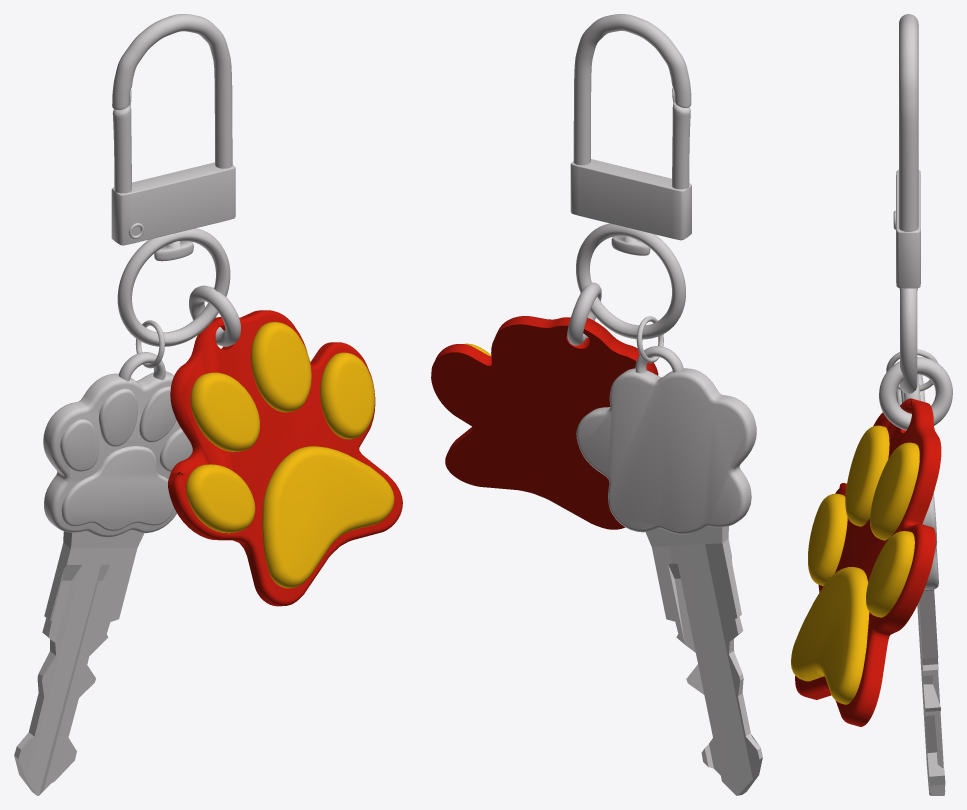
Rendered from enthusiast_key.glb.
3 renders of one model, left to right at view 1: azimuth 30°, elevation 25°; view 2: azimuth 150°, elevation 25°; view 3: azimuth 270°, elevation 25°, orthographic. The views are drawn at different scales.
Visible parts, largest first — view 1: enthusiast-keyring-pawprint, enthusiast-keys, enthusiast-keyring; view 2: enthusiast-keys, enthusiast-keyring-pawprint, enthusiast-keyring; view 3: enthusiast-keyring-pawprint, enthusiast-keyring, enthusiast-keys.
Part boxes in pixels (box(x1,y1,x2,y2)): enthusiast-keyring-pawprint: box(168, 285, 402, 606); enthusiast-keys: box(14, 320, 192, 795); enthusiast-keyring: box(111, 14, 235, 346); enthusiast-keys: box(576, 316, 762, 795); enthusiast-keyring-pawprint: box(431, 282, 658, 529); enthusiast-keyring: box(570, 14, 691, 339); enthusiast-keyring-pawprint: box(791, 357, 952, 726); enthusiast-keyring: box(893, 14, 920, 394); enthusiast-keys: box(886, 349, 945, 795).
Bounding box in the file's own units: 0.1769 × 0.3626 × 0.0631.
3 materials, 2 textured.
